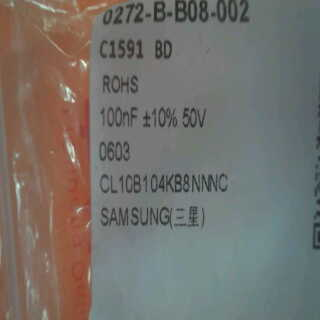100nF: (95, 102, 143, 134)
